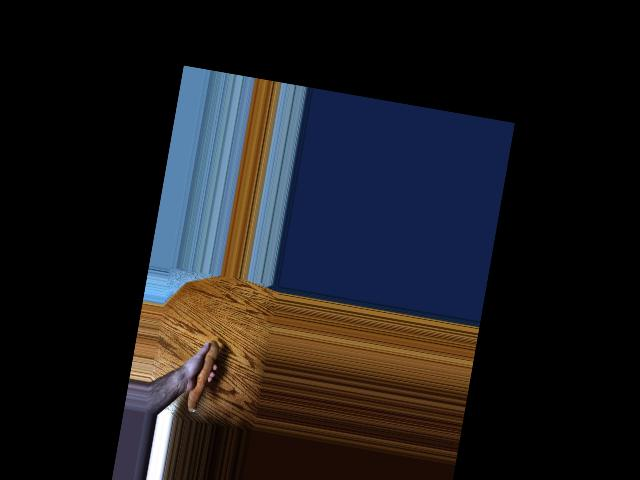sweet_potato: (182, 338, 221, 418)
